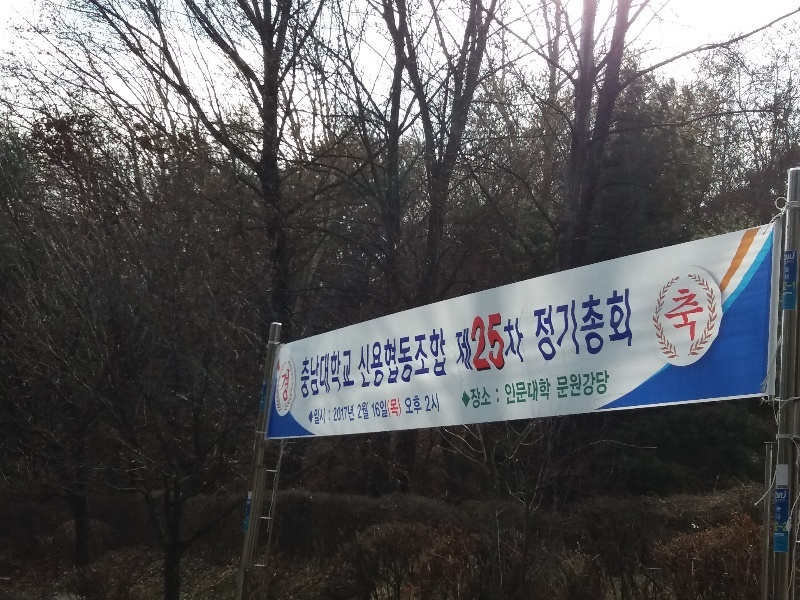text: (545, 281, 560, 364), (561, 281, 576, 364), (577, 281, 592, 364), (593, 281, 608, 364), (609, 281, 624, 364), (481, 312, 496, 373), (533, 281, 544, 364), (673, 287, 688, 345), (689, 287, 704, 345), (417, 325, 432, 378), (433, 325, 448, 378), (305, 348, 320, 401), (321, 348, 336, 401), (337, 348, 352, 401), (369, 340, 384, 389), (385, 336, 400, 385), (401, 336, 416, 385), (513, 316, 528, 364), (497, 312, 508, 373), (625, 281, 633, 364), (470, 312, 480, 373), (501, 316, 512, 364), (663, 287, 672, 345), (561, 369, 576, 400), (577, 369, 592, 400), (593, 369, 608, 400), (513, 376, 528, 406), (529, 376, 544, 406), (359, 340, 368, 389), (455, 326, 464, 372), (465, 326, 474, 372), (705, 287, 711, 345), (386, 397, 400, 419), (280, 367, 288, 404), (337, 404, 352, 423), (370, 399, 384, 419), (545, 376, 554, 406), (404, 394, 416, 416), (481, 386, 492, 410), (504, 376, 512, 406), (470, 386, 480, 410), (785, 266, 800, 281), (353, 348, 357, 401), (357, 401, 368, 420), (321, 407, 331, 426), (423, 392, 432, 413), (433, 392, 441, 413), (413, 325, 416, 378), (301, 348, 304, 401), (417, 394, 424, 416), (556, 369, 560, 400), (776, 506, 784, 521), (314, 407, 320, 426), (785, 281, 795, 292), (785, 252, 795, 262), (775, 521, 784, 532), (385, 399, 389, 419), (776, 492, 784, 500), (263, 388, 272, 395), (333, 404, 336, 423), (353, 404, 356, 423), (785, 260, 794, 266), (385, 340, 386, 389), (383, 336, 384, 385), (497, 388, 500, 403), (401, 397, 403, 419), (246, 508, 256, 512), (289, 367, 290, 404), (247, 501, 256, 505), (785, 521, 788, 532), (261, 401, 272, 404), (785, 292, 793, 296), (264, 381, 272, 385), (609, 369, 610, 400), (262, 397, 272, 400), (245, 522, 256, 524), (369, 401, 370, 420), (785, 492, 787, 500), (783, 281, 784, 292), (783, 292, 784, 296)
